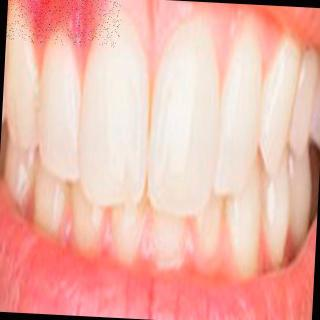Gum Swelling: (24, 0, 98, 76)
